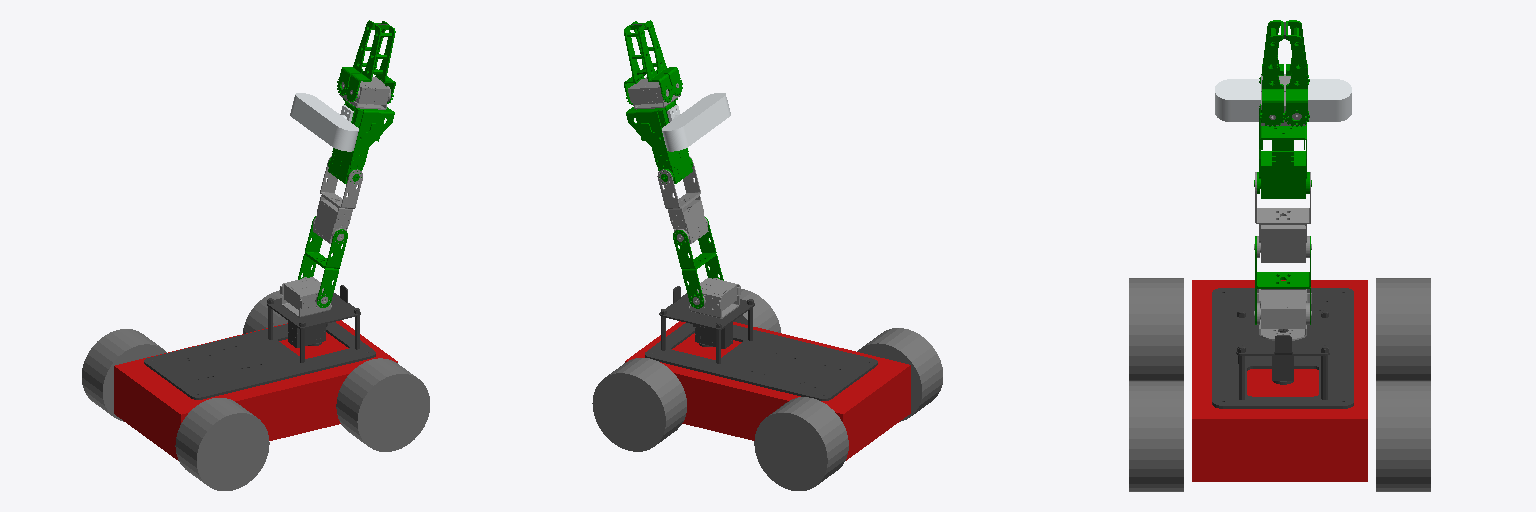
URDF robot description (combined_robot):
<?xml version="1.0" ?>
<!-- =================================================================================== -->
<!-- |    This document was autogenerated by xacro from src/robot_arm/robot_control/combined_urdf/combined_robot.urdf.xacro | -->
<!-- |    EDITING THIS FILE BY HAND IS NOT RECOMMENDED                                 | -->
<!-- =================================================================================== -->
<robot name="combined_robot">
  <!-- radius of a wheel -->
  <!-- clearance + chassis_height/2 -->
  <!-- ====== Base (chassis) ====== -->
  <link name="base_link">
    <inertial>
      <origin xyz="0 0 0.0535"/>
      <mass value="8.0"/>
      <inertia ixx="0.1" ixy="0" ixz="0" iyy="0.1" iyz="0" izz="0.1"/>
    </inertial>
    <visual>
      <origin xyz="0 0 0.0535"/>
      <geometry>
        <box size="0.297 0.159 0.063"/>
      </geometry>
      <material name="red">
        <color rgba="0.8 0.1 0.1 1.0"/>
      </material>
    </visual>
    <collision>
      <origin rpy="0 0 0" xyz="0 0 0.0535"/>
      <geometry>
        <box size="0.297 0.159 0.063"/>
      </geometry>
    </collision>
  </link>
  <link name="front_left_wheel">
    <inertial>
      <origin xyz="0 0 0"/>
      <mass value="0.5"/>
      <inertia ixx="0.001" ixy="0" ixz="0" iyy="0.001" iyz="0" izz="0.001"/>
    </inertial>
    <!-- Rotate cylinder so its axis (Z) becomes Y: roll = +90° -->
    <visual>
      <origin rpy="1.5708 0 0" xyz="0 0 0"/>
      <!-- << correct -->
      <geometry>
        <cylinder length="0.05" radius="0.05"/>
      </geometry>
      <material name="grey">
        <color rgba="0.5 0.5 0.5 1.0"/>
      </material>
    </visual>
    <collision>
      <origin rpy="1.5708 0 0" xyz="0 0 0"/>
      <!-- << same -->
      <geometry>
        <cylinder length="0.05" radius="0.05"/>
      </geometry>
    </collision>
  </link>
  <link name="front_right_wheel">
    <inertial>
      <origin xyz="0 0 0"/>
      <mass value="0.5"/>
      <inertia ixx="0.001" ixy="0" ixz="0" iyy="0.001" iyz="0" izz="0.001"/>
    </inertial>
    <!-- Rotate cylinder so its axis (Z) becomes Y: roll = +90° -->
    <visual>
      <origin rpy="1.5708 0 0" xyz="0 0 0"/>
      <!-- << correct -->
      <geometry>
        <cylinder length="0.05" radius="0.05"/>
      </geometry>
      <material name="grey">
        <color rgba="0.5 0.5 0.5 1.0"/>
      </material>
    </visual>
    <collision>
      <origin rpy="1.5708 0 0" xyz="0 0 0"/>
      <!-- << same -->
      <geometry>
        <cylinder length="0.05" radius="0.05"/>
      </geometry>
    </collision>
  </link>
  <link name="rear_left_wheel">
    <inertial>
      <origin xyz="0 0 0"/>
      <mass value="0.5"/>
      <inertia ixx="0.001" ixy="0" ixz="0" iyy="0.001" iyz="0" izz="0.001"/>
    </inertial>
    <!-- Rotate cylinder so its axis (Z) becomes Y: roll = +90° -->
    <visual>
      <origin rpy="1.5708 0 0" xyz="0 0 0"/>
      <!-- << correct -->
      <geometry>
        <cylinder length="0.05" radius="0.05"/>
      </geometry>
      <material name="grey">
        <color rgba="0.5 0.5 0.5 1.0"/>
      </material>
    </visual>
    <collision>
      <origin rpy="1.5708 0 0" xyz="0 0 0"/>
      <!-- << same -->
      <geometry>
        <cylinder length="0.05" radius="0.05"/>
      </geometry>
    </collision>
  </link>
  <link name="rear_right_wheel">
    <inertial>
      <origin xyz="0 0 0"/>
      <mass value="0.5"/>
      <inertia ixx="0.001" ixy="0" ixz="0" iyy="0.001" iyz="0" izz="0.001"/>
    </inertial>
    <!-- Rotate cylinder so its axis (Z) becomes Y: roll = +90° -->
    <visual>
      <origin rpy="1.5708 0 0" xyz="0 0 0"/>
      <!-- << correct -->
      <geometry>
        <cylinder length="0.05" radius="0.05"/>
      </geometry>
      <material name="grey">
        <color rgba="0.5 0.5 0.5 1.0"/>
      </material>
    </visual>
    <collision>
      <origin rpy="1.5708 0 0" xyz="0 0 0"/>
      <!-- << same -->
      <geometry>
        <cylinder length="0.05" radius="0.05"/>
      </geometry>
    </collision>
  </link>
  <!-- ====== Realsense Camera link ====== -->
  <!--link name="camera_link">
    <inertial>
      <origin xyz="0 0 0"/>
      <mass value="0.2"/>
      <inertia ixx="0.0001" iyy="0.0001" izz="0.0001" ixy="0" ixz="0" iyz="0"/>
    </inertial>
    <visual>  
      <geometry>
        <box size="0.1 0.02 0.02"/>
      </geometry>
    </visual>
  </link-->
  <!-- Optional optical frames (recommended) -->
  <!--link name ="camera_frame"/>
  <link name="camera_color_frame"/>
  <link name="camera_depth_frame"/>
  <link name="camera_color_optical_frame"/>
  <link name="camera_depth_optical_frame"/-->
  <!-- ====== Joints (x forward, y left, z up) ====== -->
  <!-- Both joints are still shown in RViz to accurately represent the chassis, however, one is a mimic to depict the tricycle setup -->
  <!-- Front steering (revolute about Z at wheel height) -->
  <joint name="front_left_steer_joint" type="fixed">
    <parent link="base_link"/>
    <child link="front_left_wheel"/>
    <origin rpy="0 0 0" xyz="0.11  0.11125  0.05"/>
    <axis xyz="0 0 1"/>
    <!-- safe ±48° from HTS-20H (300–700 units) -->
    <limit effort="5" lower="-0.838" upper="0.838" velocity="1.5"/>
  </joint>
  <joint name="front_right_steer_joint" type="fixed">
    <!--mimic joint="front_left_steer_joint" multiplier="1.0" offset="0.0"/-->
    <!-- This is added so the chassis acts as a single steering actuator with a mirrored visual steering -->
    <parent link="base_link"/>
    <child link="front_right_wheel"/>
    <origin rpy="0 0 0" xyz="0.11 -0.11125  0.05"/>
    <axis xyz="0 0 1"/>
    <limit effort="5" lower="-0.838" upper="0.838" velocity="1.5"/>
  </joint>
  <!-- Rear drive (continuous spin about Y at wheel height) -->
  <joint name="rear_left_wheel_joint" type="fixed">
    <parent link="base_link"/>
    <child link="rear_left_wheel"/>
    <origin rpy="0 0 0" xyz="-0.11  0.11125  0.05"/>
    <axis xyz="0 1 0"/>
    <limit effort="10" velocity="50"/>
  </joint>
  <joint name="rear_right_wheel_joint" type="fixed">
    <parent link="base_link"/>
    <child link="rear_right_wheel"/>
    <origin rpy="0 0 0" xyz="-0.11 -0.11125  0.05"/>
    <axis xyz="0 1 0"/>
    <limit effort="10" velocity="50"/>
  </joint>
  <!-- ====== Realsense Camera Joint ====== -->
  <!--joint name="camera_mount_joint" type="fixed">
    <parent link="base_link"/>
    <child link="camera_link"/>
    <origin xyz="0.2 0 0.1" rpy="0 0 0"/>
  </joint-->
  <!-- ====== Frame hierarchy ====== -->
  <!--joint name="camera_frame_joint" type="fixed">
    <parent link="camera_link"/>
    <child link="camera_frame"/>
    <origin xyz="0 0 0" rpy="0 0 0"/>
  </joint>

  <joint name="color_frame_joint" type="fixed">
    <parent link="camera_frame"/>
    <child link="camera_color_frame"/>
    <origin xyz="0 0 0" rpy="0 0 0"/>
  </joint>

  <joint name="depth_frame_joint" type="fixed">
    <parent link="camera_frame"/>
    <child link="camera_depth_frame"/>
    <origin xyz="0 0 0" rpy="0 0 0"/>
  </joint-->
  <!-- Optical frames (ROS standard orientation) -->
  <!--joint name="color_optical_joint" type="fixed">
    <parent link="camera_color_frame"/>
    <child link="camera_color_optical_frame"/>
    <origin xyz="0 0 0" rpy="-1.5708 0 -1.5708"/>
  </joint>

  <joint name="depth_optical_joint" type="fixed">
    <parent link="camera_depth_frame"/>
    <child link="camera_depth_optical_frame"/>
    <origin xyz="0 0 0" rpy="-1.5708 0 -1.5708"/>
  </joint-->
  <!-- ====== ros2_control unified system (fake vs real) ====== -->
  <ros2_control name="ackermann_serial" type="system">
    <hardware>
      <!-- Fake hardware for RViz/sim bring-up -->
      <plugin>fake_components/GenericSystem</plugin>
      <param name="mock_sensor_commands">true</param>
    </hardware>
    <!-- Steering interfaces (position) -->
    <joint name="front_left_steer_joint">
      <command_interface name="position"/>
      <state_interface name="position"/>
    </joint>
    <joint name="front_right_steer_joint">
      <!-- No command interface to represent single steering actuator correctly -->
      <state_interface name="position"/>
    </joint>
    <!-- Rear drive interfaces (velocity states only, to match plugin) -->
    <joint name="rear_left_wheel_joint">
      <command_interface name="velocity"/>
      <state_interface name="position"/>
      <state_interface name="velocity"/>
    </joint>
    <joint name="rear_right_wheel_joint">
      <command_interface name="velocity"/>
      <state_interface name="position"/>
      <state_interface name="velocity"/>
    </joint>
  </ros2_control>
  <link name="arm_base_link">
    <inertial>
      <origin rpy="0 0 0" xyz="-0.05549 -1.2443E-05 0.014047"/>
      <mass value="0.34831"/>
      <inertia ixx="0.00037734" ixy="-1.9667E-07" ixz="-5.7059E-07" iyy="0.0011827" iyz="9.3336E-14" izz="0.0015361"/>
    </inertial>
    <visual>
      <origin rpy="0 0 0" xyz="0 0 0"/>
      <geometry>
        <mesh filename="package://robot_control/meshes/base_link.STL"/>
      </geometry>
      <material name="black">
        <color rgba="0.3 0.3 0.3 1"/>
      </material>
    </visual>
    <collision>
      <origin rpy="0 0 0" xyz="0 0 0"/>
      <geometry>
        <mesh filename="package://robot_control/meshes/base_link.STL"/>
      </geometry>
    </collision>
  </link>
  <link name="link1">
    <inertial>
      <origin rpy="0 0 0" xyz="-0.0098047 1.4097E-06 0.014583"/>
      <mass value="0.047857"/>
      <inertia ixx="9.9743E-06" ixy="1.2606E-09" ixz="5.9862E-07" iyy="8.9062E-06" iyz="2.193E-09" izz="1.4861E-05"/>
    </inertial>
    <visual>
      <origin rpy="0 0 0" xyz="0 0 0"/>
      <geometry>
        <mesh filename="package://robot_control/meshes/link1.STL"/>
      </geometry>
      <material name="green">
        <color rgba="0.6 0.6 0.6 1"/>
      </material>
    </visual>
    <collision>
      <origin rpy="0 0 0" xyz="0 0 0"/>
      <geometry>
        <mesh filename="package://robot_control/meshes/link1.STL"/>
      </geometry>
    </collision>
  </link>
  <joint name="joint_0" type="revolute">
    <origin rpy="0 0 0" xyz="0 0 0.052"/>
    <parent link="arm_base_link"/>
    <child link="link1"/>
    <axis xyz="0 0 1"/>
    <limit effort="20" lower="-1.5708" upper="1.5708" velocity="3.5"/>
  </joint>
  <link name="link2">
    <inertial>
      <origin rpy="0 0 0" xyz="0.04 -5.5511E-17 6.7485E-17"/>
      <mass value="0.020202"/>
      <inertia ixx="9.9386E-06" ixy="1.7219E-08" ixz="-5.3147E-21" iyy="1.3724E-05" iyz="-1.594E-21" izz="5.1826E-06"/>
    </inertial>
    <visual>
      <origin rpy="0 0 0" xyz="0 0 0"/>
      <geometry>
        <mesh filename="package://robot_control/meshes/link2.STL"/>
      </geometry>
      <material name="green">
        <color rgba="0 0.6 0 1"/>
      </material>
    </visual>
    <collision>
      <origin rpy="0 0 0" xyz="0 0 0"/>
      <geometry>
        <mesh filename="package://robot_control/meshes/link2.STL"/>
      </geometry>
    </collision>
  </link>
  <joint name="joint_1" type="revolute">
    <origin rpy="-1.5708 0 0" xyz="0 0 0.018"/>
    <parent link="link1"/>
    <child link="link2"/>
    <axis rpy="0 0 0" xyz="0 0 1"/>
    <limit effort="20" lower="-2.3562" upper="-0.2269" velocity="3.5"/>
  </joint>
  <link name="link3">
    <inertial>
      <origin rpy="0 0 0" xyz="0.019908 0 -6.1294E-06"/>
      <mass value="0.050927"/>
      <inertia ixx="1.2573E-05" ixy="8.6095E-09" ixz="-1.9789E-09" iyy="1.7838E-05" iyz="3.1614E-20" izz="8.6328E-06"/>
    </inertial>
    <visual>
      <origin rpy="0 0 0" xyz="0 0 0"/>
      <geometry>
        <mesh filename="package://robot_control/meshes/link3.STL"/>
      </geometry>
      <material name="gray">
        <color rgba="0.6 0.6 0.6 1"/>
      </material>
    </visual>
    <collision>
      <origin rpy="0 0 0" xyz="0 0 0"/>
      <geometry>
        <mesh filename="package://robot_control/meshes/link3.STL"/>
      </geometry>
    </collision>
  </link>
  <joint name="joint_2" type="revolute">
    <origin rpy="0 0 0" xyz="0.08 0 0"/>
    <parent link="link2"/>
    <child link="link3"/>
    <axis xyz="0 0 1"/>
    <limit effort="20" lower="-0.7854" upper="1.5708" velocity="3.5"/>
  </joint>
  <link name="link4">
    <inertial>
      <origin rpy="0 0 0" xyz="0.042216 0.0041806 -3.2915E-06"/>
      <mass value="0.094835"/>
      <inertia ixx="2.4341E-05" ixy="-2.5244E-06" ixz="-1.9789E-09" iyy="3.3312E-05" iyz="1.4436E-20" izz="3.0737E-05"/>
    </inertial>
    <visual>
      <origin rpy="0 0 0" xyz="0 0 0"/>
      <geometry>
        <mesh filename="package://robot_control/meshes/link4.STL"/>
      </geometry>
      <material name="green">
        <color rgba="0 0.6 0 1"/>
      </material>
    </visual>
    <collision>
      <origin rpy="0 0 0" xyz="0 0 0"/>
      <geometry>
        <mesh filename="package://robot_control/meshes/link4.STL"/>
      </geometry>
    </collision>
  </link>
  <joint name="joint_3" type="revolute">
    <origin rpy="0 0 0" xyz="0.07615 0 0"/>
    <parent link="link3"/>
    <child link="link4"/>
    <axis rpy="0 0 0" xyz="0 0 1"/>
    <limit effort="20" lower="-1.5708" upper="2.26893" velocity="3.5"/>
  </joint>
  <link name="link5">
    <inertial>
      <origin rpy="0 0 0" xyz="-8.2184E-06 -0.0011968 0.01386"/>
      <mass value="0.049124"/>
      <inertia ixx="8.2684E-06" ixy="2.2759E-09" ixz="5.1987E-11" iyy="1.1645E-05" iyz="5.9116E-07" izz="1.5458E-05"/>
    </inertial>
    <visual>
      <origin rpy="0 0 0" xyz="0 0 0"/>
      <geometry>
        <mesh filename="package://robot_control/meshes/link5.STL"/>
      </geometry>
      <material name="gray">
        <color rgba="0.6 0.6 0.6 1"/>
      </material>
    </visual>
    <collision>
      <origin rpy="0 0 0" xyz="0 0 0"/>
      <geometry>
        <mesh filename="package://robot_control/meshes/link5.STL"/>
      </geometry>
    </collision>
  </link>
  <joint name="joint_4" type="revolute">
    <origin rpy="-1.57079632679489 8.79419361882729E-05 -1.5707963267949" xyz="0.0854 0 0"/>
    <parent link="link4"/>
    <child link="link5"/>
    <axis xyz="0 0 1"/>
    <limit effort="20" lower="-1.5708" upper="1.5708" velocity="3.5"/>
  </joint>
  <link name="left_gripper_link">
    <inertial>
      <origin rpy="0 0 0" xyz="0.035118 0.00016366 5.5511E-17"/>
      <mass value="0.024589"/>
      <inertia ixx="1.611E-06" ixy="2.5381E-07" ixz="1.1103E-20" iyy="1.2951E-05" iyz="-2.2806E-22" izz="1.2364E-05"/>
    </inertial>
    <visual>
      <origin rpy="0 0 0" xyz="0 0 0"/>
      <geometry>
        <mesh filename="package://robot_control/meshes/left_gripper_link.STL"/>
      </geometry>
      <material name="green">
        <color rgba="0 0.6 0 1"/>
      </material>
    </visual>
    <collision>
      <origin rpy="0 0 0" xyz="0 0 0"/>
      <geometry>
        <mesh filename="package://robot_control/meshes/left_gripper_link.STL"/>
      </geometry>
    </collision>
  </link>
  <joint name="left_gripper_joint" type="revolute">
    <origin rpy="8.7942E-05 -1.5708 0" xyz="0 0.00965 0.016"/>
    <parent link="link5"/>
    <child link="left_gripper_link"/>
    <axis xyz="0 0 1"/>
    <limit effort="20" lower="0" upper="1.5708" velocity="3.5"/>
  </joint>
  <link name="left_rubber_pad_link">
    <inertial>
      <origin rpy="0 0 0" xyz="-5.5511E-17 0.0005 0"/>
      <mass value="8.5E-05"/>
      <inertia ixx="2.0542E-09" ixy="-5.8301E-25" ixz="-4.0091E-24" iyy="2.2242E-09" iyz="2.0909E-27" izz="1.8417E-10"/>
    </inertial>
    <visual>
      <origin rpy="0 0 0" xyz="0 0 0"/>
      <geometry>
        <mesh filename="package://robot_control/meshes/left_rubber_pad_link.STL"/>
      </geometry>
      <material name="rubber">
        <color rgba="0.29804 0.29804 0.29804 1"/>
      </material>
    </visual>
    <collision>
      <origin rpy="0 0 0" xyz="0 0 0"/>
      <geometry>
        <mesh filename="package://robot_control/meshes/left_rubber_pad_link.STL"/>
      </geometry>
    </collision>
  </link>
  <joint name="left_rubber_pad_joint" type="fixed">
    <origin rpy="0 0 0" xyz="0.0810000000000007 -0.0109999999999981 0"/>
    <parent link="left_gripper_link"/>
    <child link="left_rubber_pad_link"/>
    <axis xyz="0 0 0"/>
  </joint>
  <link name="right_gripper_link">
    <inertial>
      <origin rpy="0 0 0" xyz="0.036355 -0.00017366 -4.996E-16"/>
      <mass value="0.023734"/>
      <inertia ixx="1.5331E-06" ixy="-2.5364E-07" ixz="-1.9986E-21" iyy="1.2074E-05" iyz="7.3824E-23" izz="1.1549E-05"/>
    </inertial>
    <visual>
      <origin rpy="0 0 0" xyz="0 0 0"/>
      <geometry>
        <mesh filename="package://robot_control/meshes/right_gripper_link.STL"/>
      </geometry>
      <material name="green">
        <color rgba="0 0.6 0 1"/>
      </material>
    </visual>
    <collision>
      <origin rpy="0 0 0" xyz="0 0 0"/>
      <geometry>
        <mesh filename="package://robot_control/meshes/right_gripper_link.STL"/>
      </geometry>
    </collision>
  </link>
  <joint name="right_gripper_joint" type="revolute">
    <origin rpy="8.79419382699738E-05 -1.5707963267949 0" xyz="0 -0.0123499997975674 0.016"/>
    <parent link="link5"/>
    <child link="right_gripper_link"/>
    <axis xyz="0 0 1"/>
    <limit effort="20" lower="-1.5708" upper="0" velocity="3.5"/>
    <mimic joint="left_gripper_joint" multiplier="-1" offset="0"/>
  </joint>
  <link name="right_rubber_pad_link">
    <inertial>
      <origin rpy="0 0 0" xyz="3.3307E-16 -0.0005 -2.6507E-15"/>
      <mass value="8.5E-05"/>
      <inertia ixx="2.0542E-09" ixy="-8.9622E-25" ixz="1.5346E-24" iyy="2.2242E-09" iyz="3.0737E-27" izz="1.8417E-10"/>
    </inertial>
    <visual>
      <origin rpy="0 0 0" xyz="0 0 0"/>
      <geometry>
        <mesh filename="package://robot_control/meshes/right_rubber_pad_link.STL"/>
      </geometry>
      <material name="rubber">
        <color rgba="0.29804 0.29804 0.29804 1"/>
      </material>
    </visual>
    <collision>
      <origin rpy="0 0 0" xyz="0 0 0"/>
      <geometry>
        <mesh filename="package://robot_control/meshes/right_rubber_pad_link.STL"/>
      </geometry>
    </collision>
  </link>
  <joint name="right_rubber_pad_joint" type="fixed">
    <origin rpy="0 0 0" xyz="0.081 0.011 0"/>
    <parent link="right_gripper_link"/>
    <child link="right_rubber_pad_link"/>
    <axis xyz="0 0 0"/>
  </joint>
  <link name="camera_link">
    <inertial>
      <!--0.012507582644275 0.000732174960914142 -0.0180019906281733-->
      <origin rpy="0 0 0" xyz="0 0 0"/>
      <mass value="0.182214459073633"/>
      <inertia ixx="3.36907557025265E-05" ixy="5.37491052812001E-09" ixz="-2.59991125882536E-08" iyy="0.000396547856460873" iyz="-6.17675676299939E-08" izz="0.000390144942272885"/>
    </inertial>
    <visual>
      <origin rpy="0 0 0" xyz="0 0 0"/>
      <geometry>
        <mesh filename="package://robot_control/meshes/camera_mount_mesh.stl" scale="0.001 0.001 0.001"/>
      </geometry>
      <material name="">
        <color rgba="0.898039215686275 0.917647058823529 0.929411764705882 1"/>
      </material>
    </visual>
    <collision>
      <origin rpy="0 0 0" xyz="0 0 0"/>
      <geometry>
        <mesh filename="package://robot_control/meshes/camera_mount_mesh.stl" scale="0.001 0.001 0.001"/>
      </geometry>
    </collision>
  </link>
  <joint name="camera_joint" type="fixed">
    <origin rpy="1.570796 0 0" xyz="0.0584 -0.0455 0.0001"/>
    <parent link="link4"/>
    <child link="camera_link"/>
    <axis xyz="0 0 0"/>
  </joint>
  <link name="ee_link">
  </link>
  <joint name="ee_joint" type="fixed">
    <parent link="link5"/>
    <child link="ee_link"/>
    <origin rpy="0 0 0" xyz="0.000 0 0.07"/>
  </joint>
  <!-- Mount arm to chassis -->
  <joint name="arm_mount_joint" type="fixed">
    <parent link="base_link"/>
    <child link="arm_base_link"/>
    <origin rpy="0 0 0" xyz="0.081 0.003 0.088"/>
  </joint>
</robot>

--- Render facts (derived) ---
The picture shows the robot from 3 angles, left to right: view 1: azimuth 30°, elevation 25°; view 2: azimuth 150°, elevation 25°; view 3: azimuth 270°, elevation 25°; orthographic projection.
Robot: combined_robot — 17 links, 16 joints (7 revolute, 9 fixed); root link base_link; default pose: joints at zero except 1 at the middle of their limits (joint_1 = -1.29).
Links seen in each view (by area): view 1: base_link, arm_base_link, front_right_wheel, rear_right_wheel, rear_left_wheel, camera_link, link4, link3, link2, link1, left_gripper_link, link5 (+2 smaller); view 2: base_link, arm_base_link, rear_left_wheel, front_left_wheel, rear_right_wheel, camera_link, link4, link3, link2, link1, right_gripper_link, link5 (+2 smaller); view 3: base_link, arm_base_link, front_left_wheel, front_right_wheel, rear_left_wheel, rear_right_wheel, camera_link, link4, link3, link1, left_gripper_link, right_gripper_link (+1 smaller).
Link boxes in pixels (x1,y1,x2,y2): base_link: (114, 320, 397, 460); arm_base_link: (144, 285, 375, 399); front_right_wheel: (336, 358, 429, 451); rear_right_wheel: (175, 398, 269, 490); rear_left_wheel: (82, 329, 166, 421); camera_link: (290, 93, 358, 151); link4: (328, 98, 394, 183); link3: (313, 156, 362, 243); link2: (298, 216, 347, 307); link1: (280, 277, 331, 317); left_gripper_link: (346, 24, 395, 103); link5: (339, 77, 390, 109); base_link: (625, 321, 910, 460); arm_base_link: (645, 286, 877, 400); rear_left_wheel: (754, 397, 848, 490); front_left_wheel: (592, 358, 686, 451); rear_right_wheel: (857, 328, 942, 421); camera_link: (662, 93, 730, 151); link4: (626, 98, 692, 183); link3: (657, 156, 708, 243); link2: (673, 217, 723, 308); link1: (689, 278, 740, 318); right_gripper_link: (624, 24, 673, 104); link5: (628, 77, 680, 109); base_link: (1192, 280, 1367, 481); arm_base_link: (1212, 288, 1353, 408); front_left_wheel: (1376, 381, 1430, 491); front_right_wheel: (1129, 381, 1183, 491); rear_left_wheel: (1376, 278, 1430, 380); rear_right_wheel: (1129, 278, 1183, 380); camera_link: (1215, 79, 1351, 121); link4: (1254, 104, 1311, 198); link3: (1254, 172, 1311, 262); link1: (1254, 289, 1311, 340); left_gripper_link: (1259, 20, 1285, 126); right_gripper_link: (1284, 20, 1309, 126).
Size in the robot's own frame: 0.3456 by 0.2725 by 0.4889 metres.
11 mesh visuals loaded from 11 distinct referenced files (11 binary STL).
